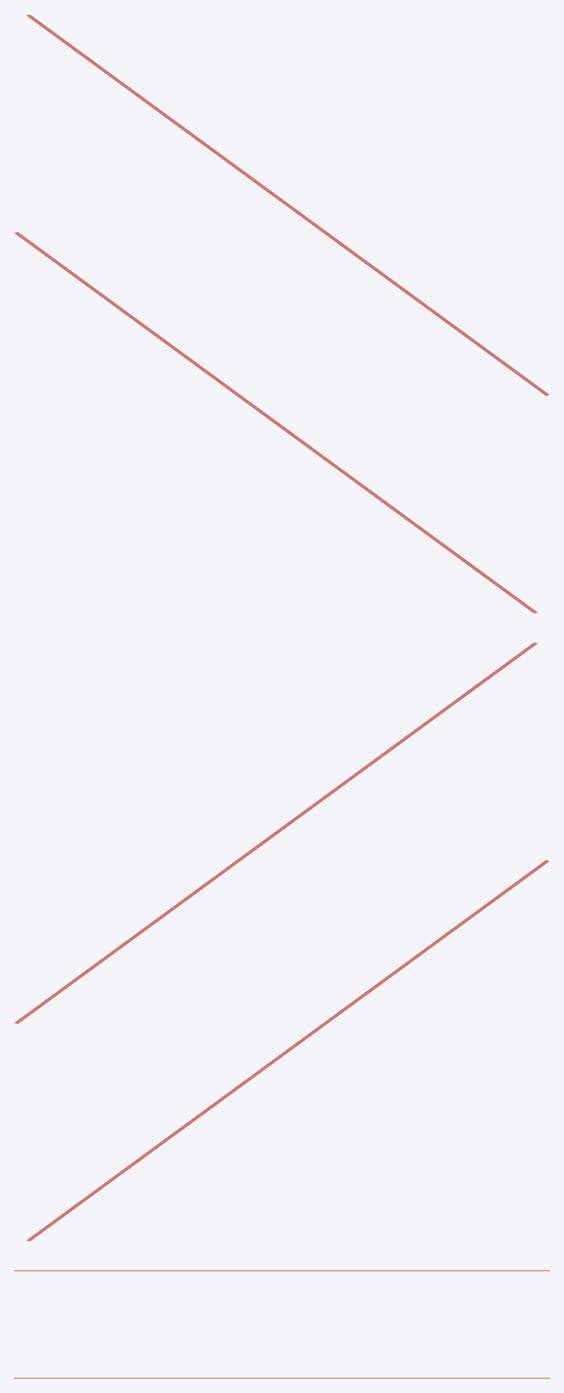
3 views of the same model, one above another, from view 1: azimuth 30°, elevation 25°; view 2: azimuth 150°, elevation 25°; view 3: azimuth 270°, elevation 25° (orthographic). The views are drawn at different scales.
Parts seen in each view (by area): view 1: DepthObjectOutput, DepthObjectOutput.001; view 2: DepthObjectOutput, DepthObjectOutput.001; view 3: DepthObjectOutput, DepthObjectOutput.001.
Boxes of the visible parts, x1=… form: DepthObjectOutput: x1=26, y1=14, x2=549, y2=395; DepthObjectOutput.001: x1=14, y1=232, x2=537, y2=613; DepthObjectOutput: x1=14, y1=642, x2=537, y2=1023; DepthObjectOutput.001: x1=26, y1=860, x2=549, y2=1241; DepthObjectOutput: x1=14, y1=1270, x2=549, y2=1271; DepthObjectOutput.001: x1=14, y1=1377, x2=549, y2=1378.
Size of the model in its own units: 4 by 51 by 224.
